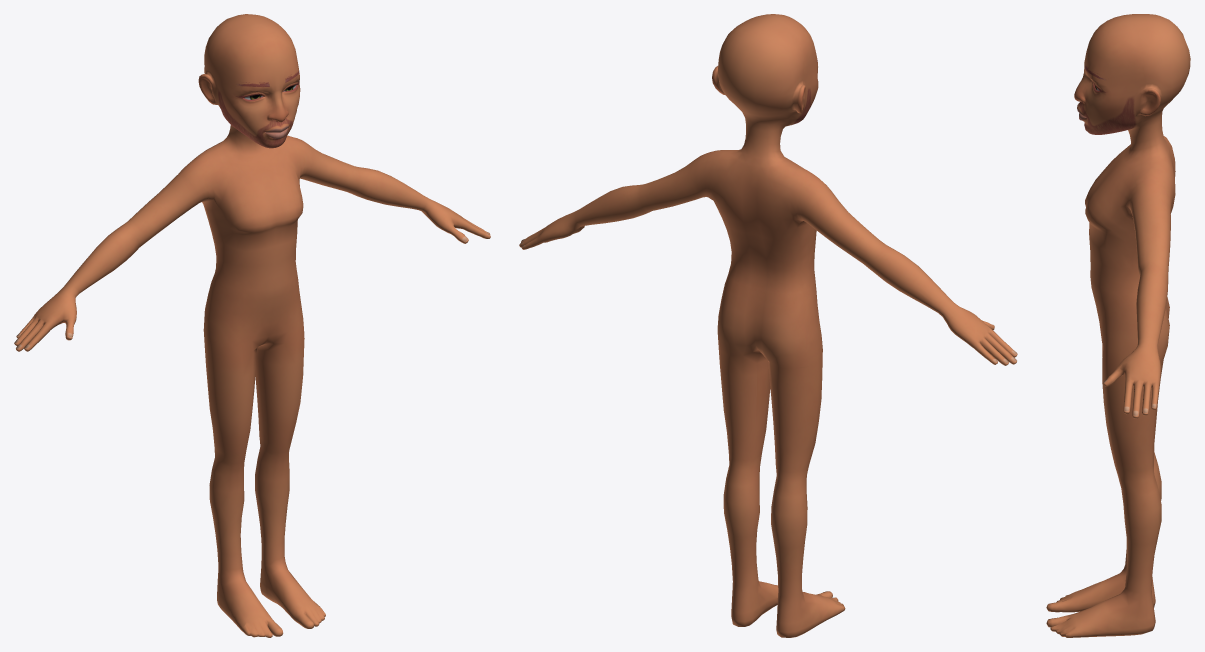
The model's file is frame_0054.glb.
The picture shows the model from 3 angles, left to right: view 1: azimuth 30°, elevation 25°; view 2: azimuth 150°, elevation 25°; view 3: azimuth 270°, elevation 25°; orthographic projection. The views are drawn at different scales.
Parts seen in each view (by area): view 1: frame_0054_head_geo; view 2: frame_0054_head_geo; view 3: frame_0054_head_geo.
Boxes of the visible parts, box(x1,y1,x2,y2) form: frame_0054_head_geo: box(14, 14, 490, 637); frame_0054_head_geo: box(519, 14, 1017, 637); frame_0054_head_geo: box(1046, 14, 1190, 637).
Size of the model in its own units: 1.28 by 1.5 by 0.3253.
Materials: 3 (3 with a texture image).
